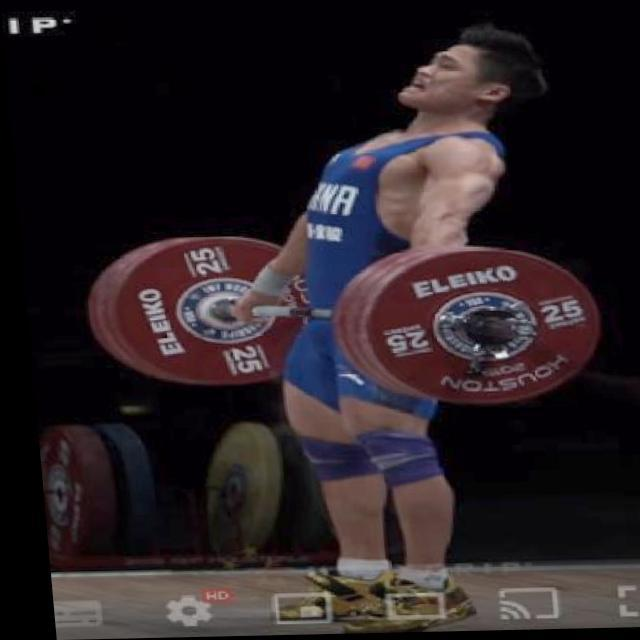barbell: (344, 246, 605, 412)
